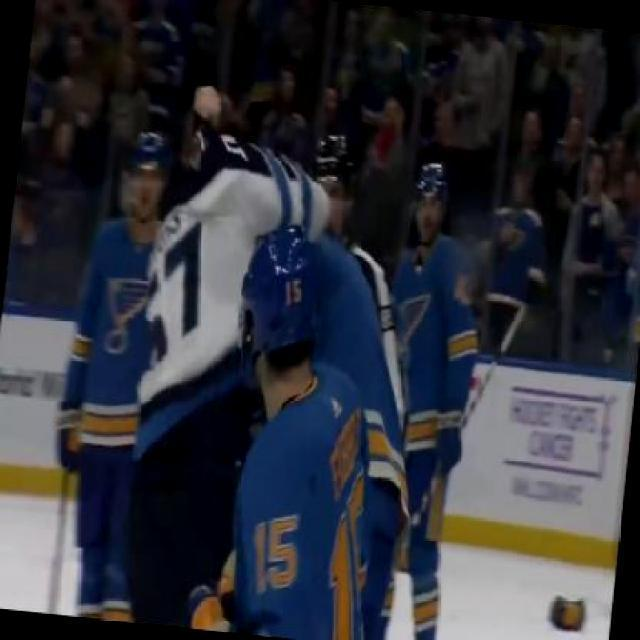fight: (132, 84, 368, 447)
